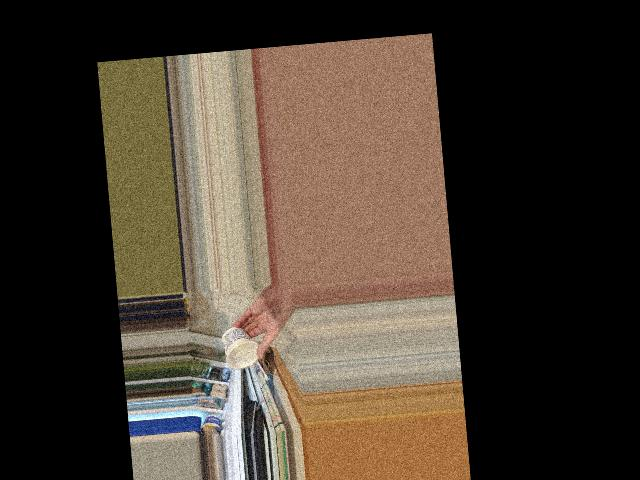cotage: (224, 325, 259, 370)
